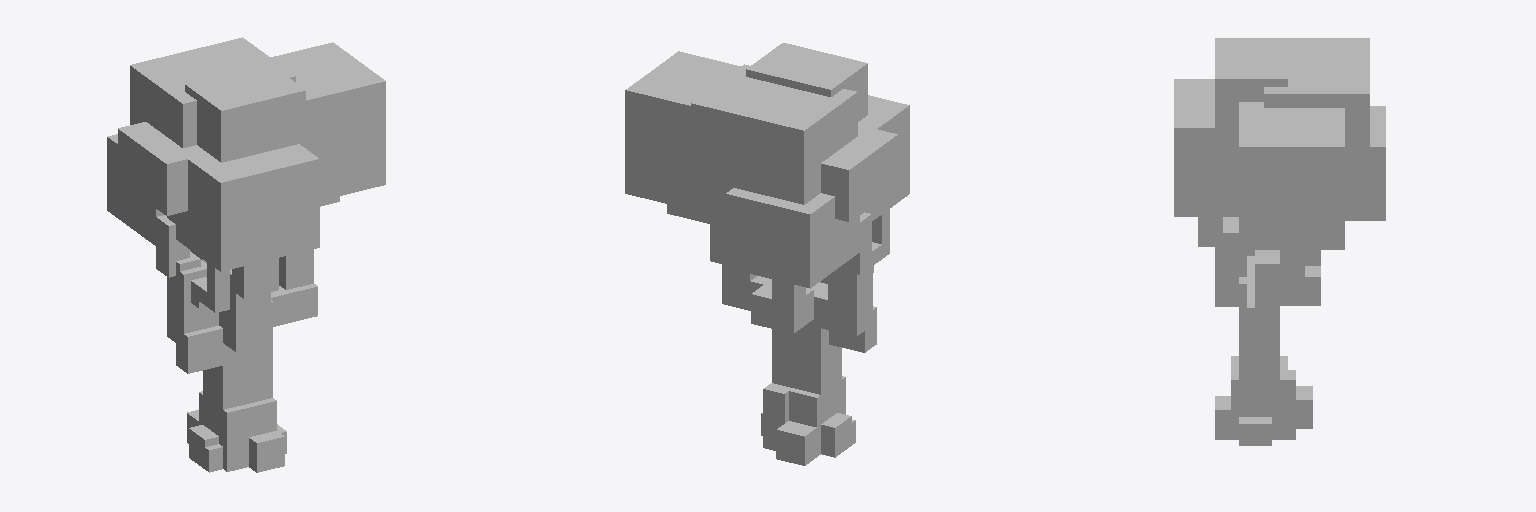
Rendered from tree.obj.
3 views of the same model, side by side, from view 1: azimuth 30°, elevation 25°; view 2: azimuth 150°, elevation 25°; view 3: azimuth 270°, elevation 25° (orthographic).
Parts seen in each view (by area): view 1: object 1; view 2: object 1; view 3: object 1.
Boxes of the visible parts, <box> form: object 1: <box>107,37,385,472</box>; object 1: <box>625,43,909,465</box>; object 1: <box>1174,38,1385,445</box>.
Size of the model in its own units: 3.1 by 5 by 2.6.